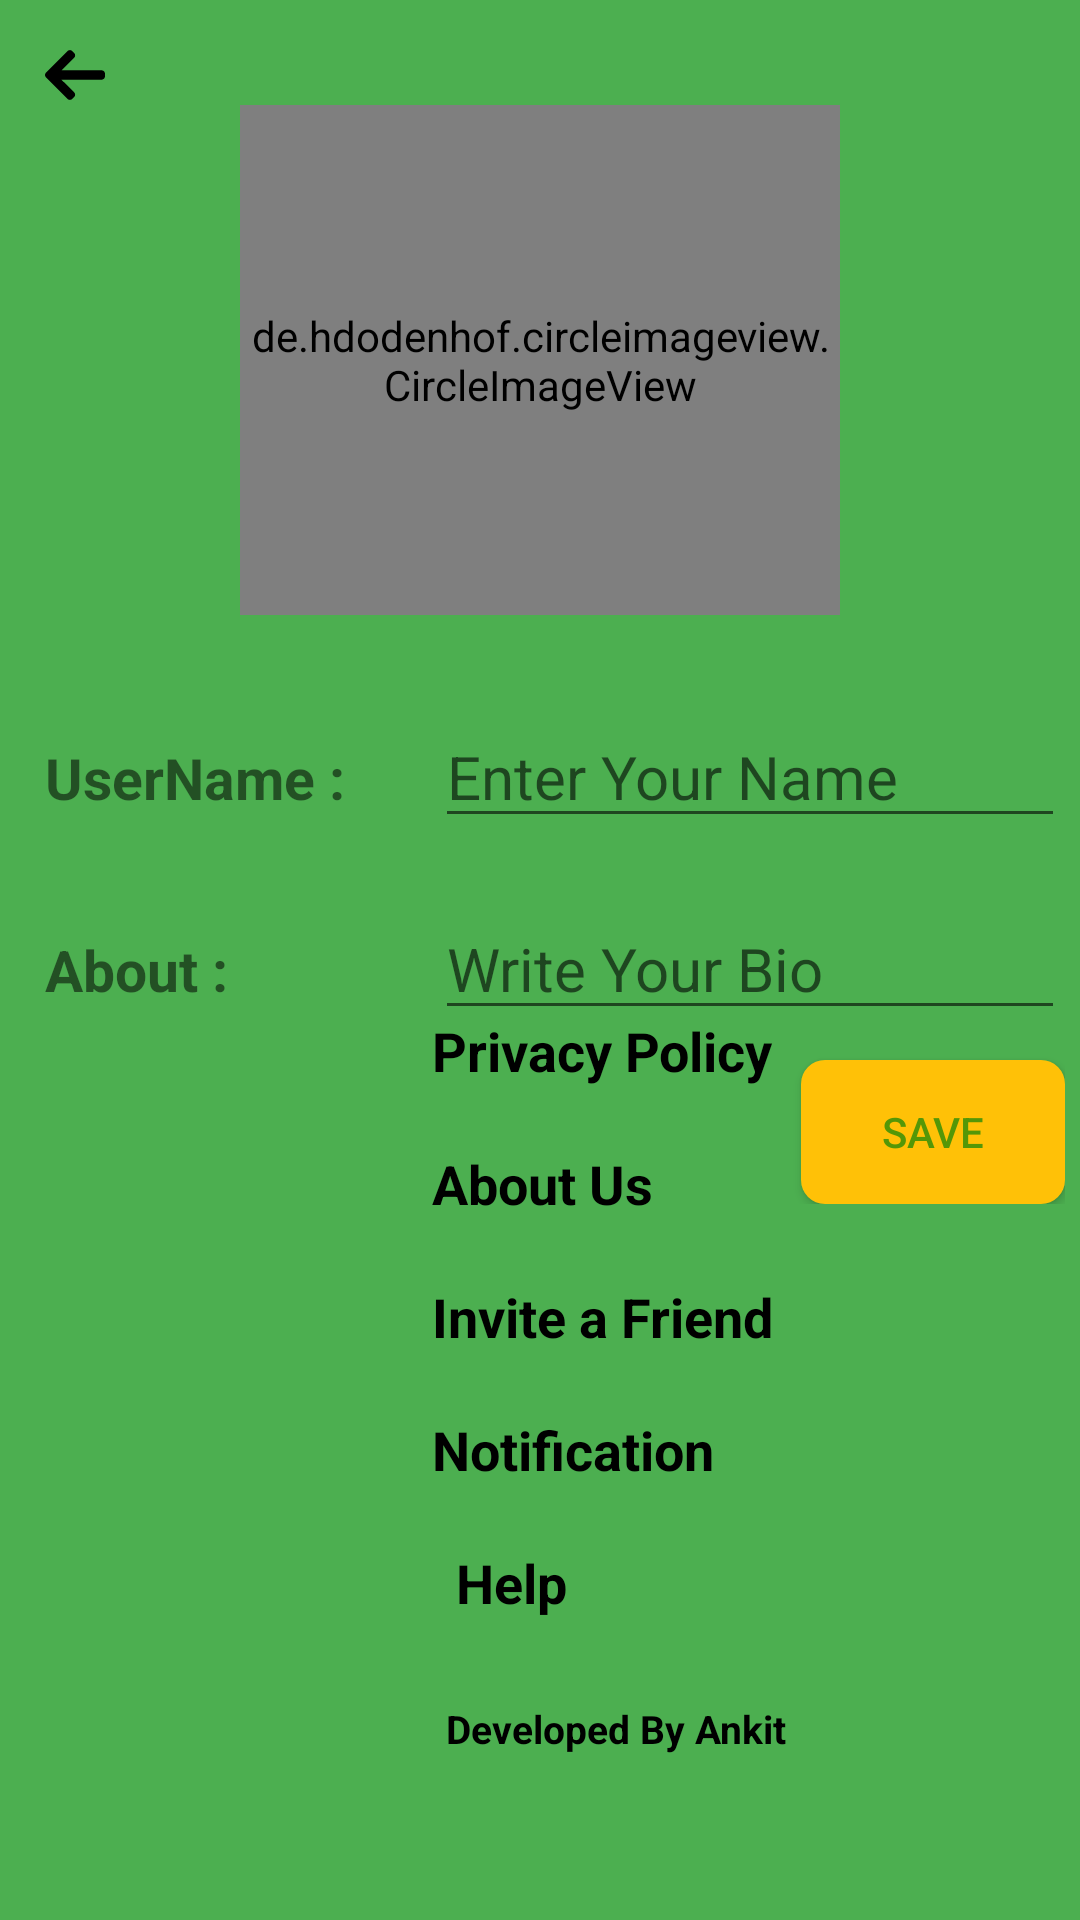

Where icons sit on this 1080x1920 app screen, as (x1, y1, x2, y2):
left arrow: (45, 50, 105, 100)
